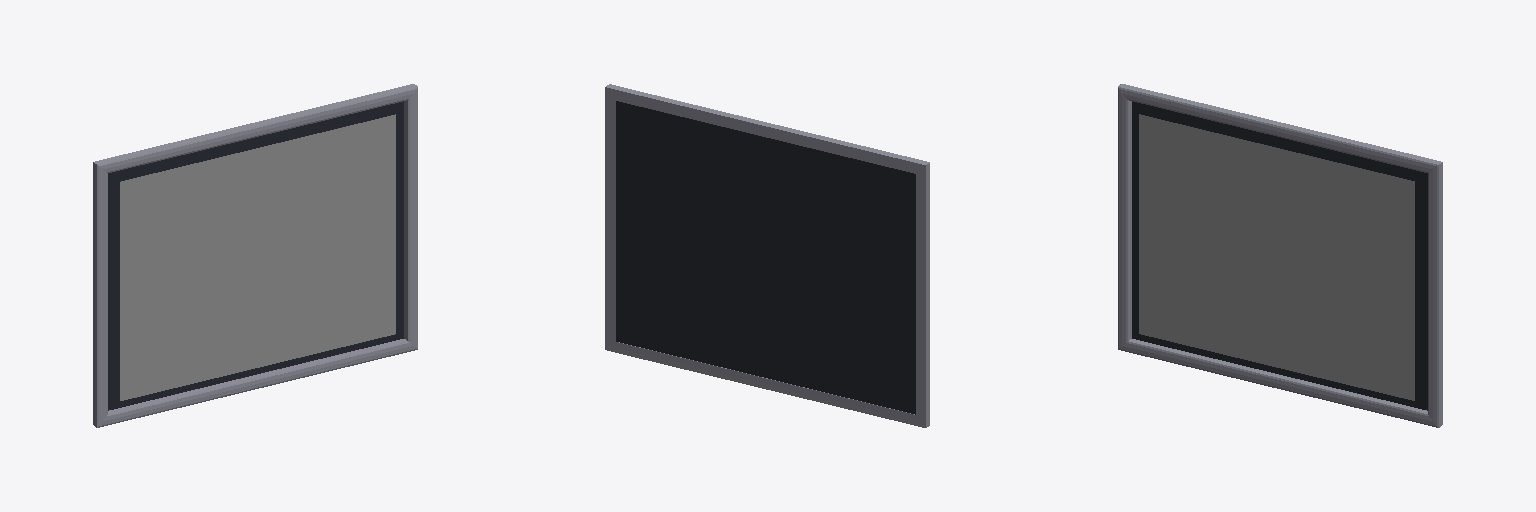
File: TorontoOntarioPlaceFrame.obj
3 views of the same model, side by side, from view 1: azimuth 30°, elevation 25°; view 2: azimuth 150°, elevation 25°; view 3: azimuth 330°, elevation 25° (orthographic).
Parts seen in each view (by area): view 1: Photo_Cube, MetalFrame_Cylinder, Frame_Black; view 2: Frame_Black, MetalFrame_Cylinder; view 3: Photo_Cube, MetalFrame_Cylinder, Frame_Black.
Boxes of the visible parts, box(x1,y1,x2,y2) form: Photo_Cube: box(120, 114, 395, 400); MetalFrame_Cylinder: box(93, 84, 417, 427); Frame_Black: box(108, 101, 403, 410); Frame_Black: box(616, 101, 915, 414); MetalFrame_Cylinder: box(605, 84, 929, 427); Photo_Cube: box(1139, 114, 1414, 400); MetalFrame_Cylinder: box(1118, 84, 1442, 427); Frame_Black: box(1132, 101, 1427, 410).
Bounding box in the file's own units: 61.16 × 47.86 × 1.6.